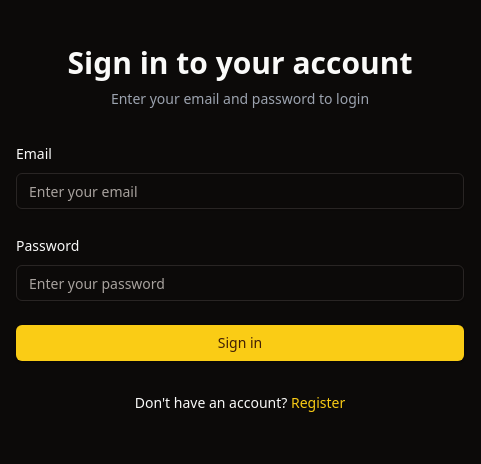
LoginPage Integration Tests › displays error message on login failure
This screenshot has width=481, height=464.
Type "test@example.com" into the field labelled "Email".
click(240, 191); type("test@example.com")  # box top-left (16, 173), bottom-right (464, 209)
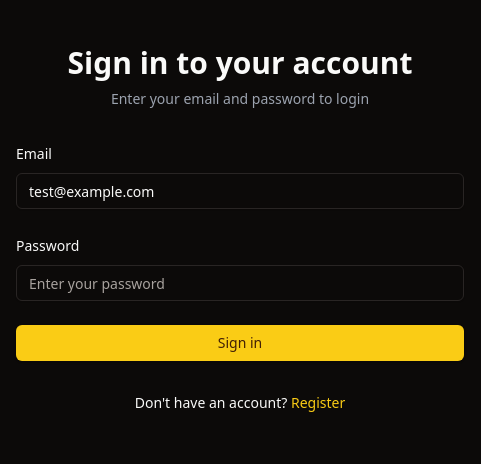
Type "password123" into the password field labelled "Password".
click(240, 283); type("password123")  # box top-left (16, 265), bottom-right (464, 301)
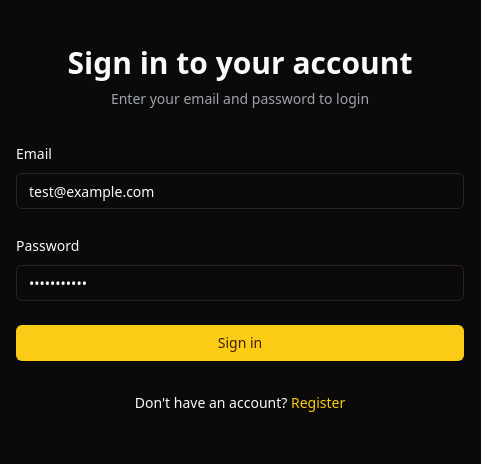
Click the button "Sign in".
click(240, 343)  # box top-left (16, 325), bottom-right (464, 361)
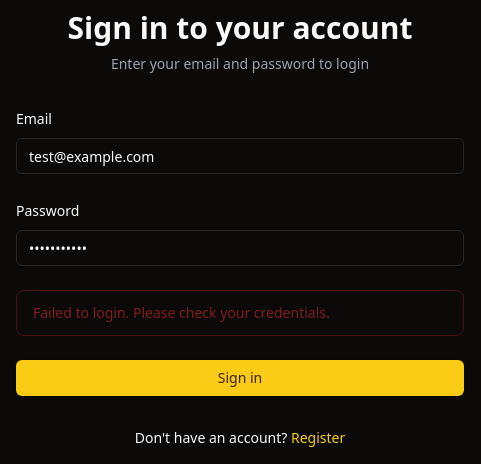
Expected: the text "Failed to login. Please check your credentials." is shown, top-left (33, 303), bottom-right (330, 322)
